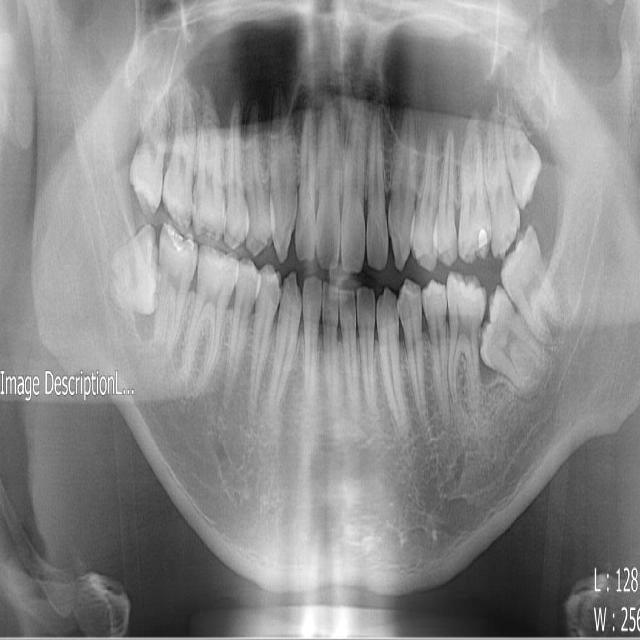Filling: (167, 225, 195, 256), (478, 228, 488, 256)
impacted tooth: (501, 228, 568, 348), (481, 285, 550, 393), (103, 229, 155, 311), (502, 114, 541, 208)
